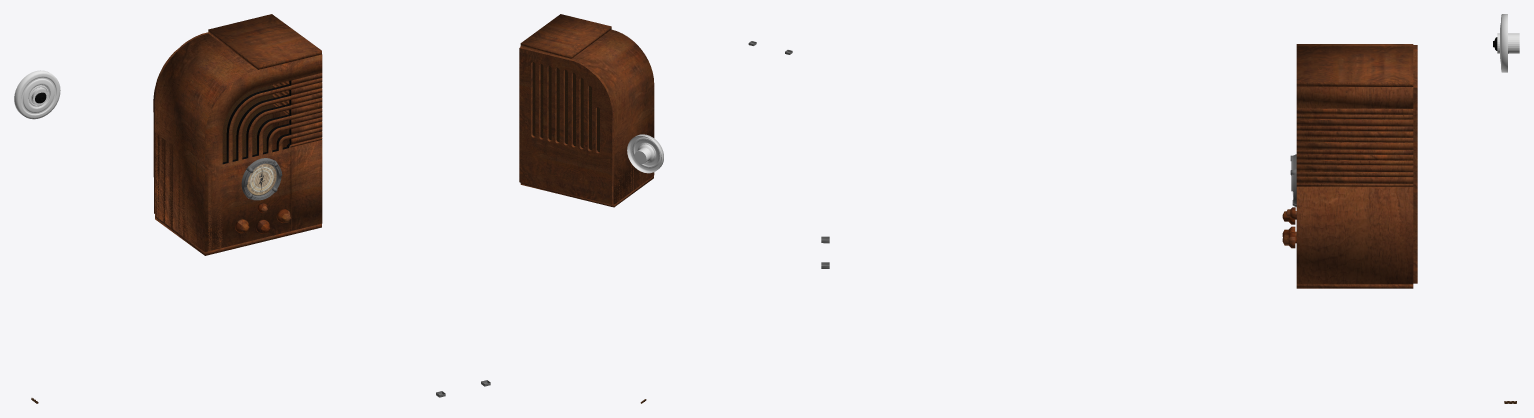
File: vintage radio.glb
3 views of the same model, side by side, from view 1: azimuth 30°, elevation 25°; view 2: azimuth 150°, elevation 25°; view 3: azimuth 270°, elevation 25° (orthographic). The views are drawn at different scales.
Parts seen in each view (by area): view 1: radio korpus, radio korpus.001, radio korpus.003, Socket.001, Circle.020, radio korpus.002, Circle.011, scheibe, Circle.009; view 2: Circle.010, radio korpus, radio korpus.001, Circle.020, Socket.001, radio korpus.002, radio korpus.003; view 3: radio korpus, radio korpus.001, Circle.010.
Part boxes in pixels (left/top/right/bottom): radio korpus: left=155, top=33, right=322, bottom=251; radio korpus.001: left=208, top=14, right=321, bottom=69; radio korpus.003: left=155, top=133, right=222, bottom=250; Socket.001: left=14, top=70, right=60, bottom=119; Circle.020: left=222, top=85, right=272, bottom=162; radio korpus.002: left=155, top=216, right=321, bottom=255; Circle.011: left=247, top=163, right=276, bottom=195; scheibe: left=247, top=164, right=276, bottom=195; Circle.009: left=241, top=158, right=282, bottom=200; Circle.010: left=519, top=47, right=613, bottom=204; radio korpus: left=520, top=29, right=654, bottom=204; radio korpus.001: left=520, top=14, right=611, bottom=58; Circle.020: left=532, top=62, right=599, bottom=152; Socket.001: left=627, top=134, right=663, bottom=173; radio korpus.002: left=520, top=176, right=653, bottom=207; radio korpus.003: left=614, top=119, right=646, bottom=202; radio korpus: left=1296, top=44, right=1413, bottom=284; radio korpus.001: left=1296, top=46, right=1413, bottom=86; Circle.010: left=1413, top=45, right=1417, bottom=283.
Bounding box in the file's own units: 0.5932 × 0.9659 × 1.41.
Materials: 12 (7 with a texture image).
